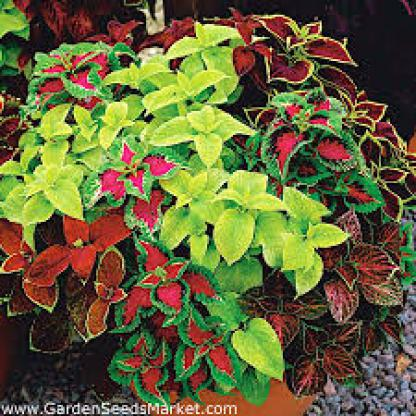Bunga Coleus: (46, 51, 377, 354)
